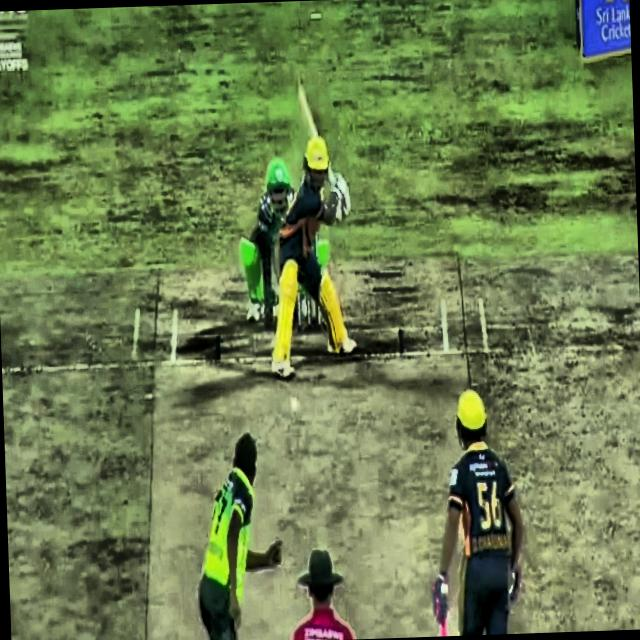Left-stump: (294, 294, 301, 329)
Middle-stump: (304, 290, 312, 332)
Right-stump: (314, 300, 324, 334)
